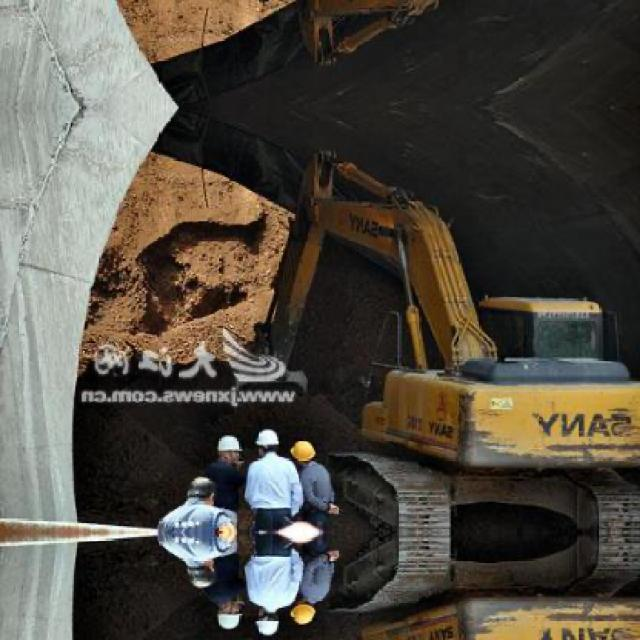con casco: (259, 416, 293, 477), (209, 424, 253, 469), (286, 428, 328, 472)
